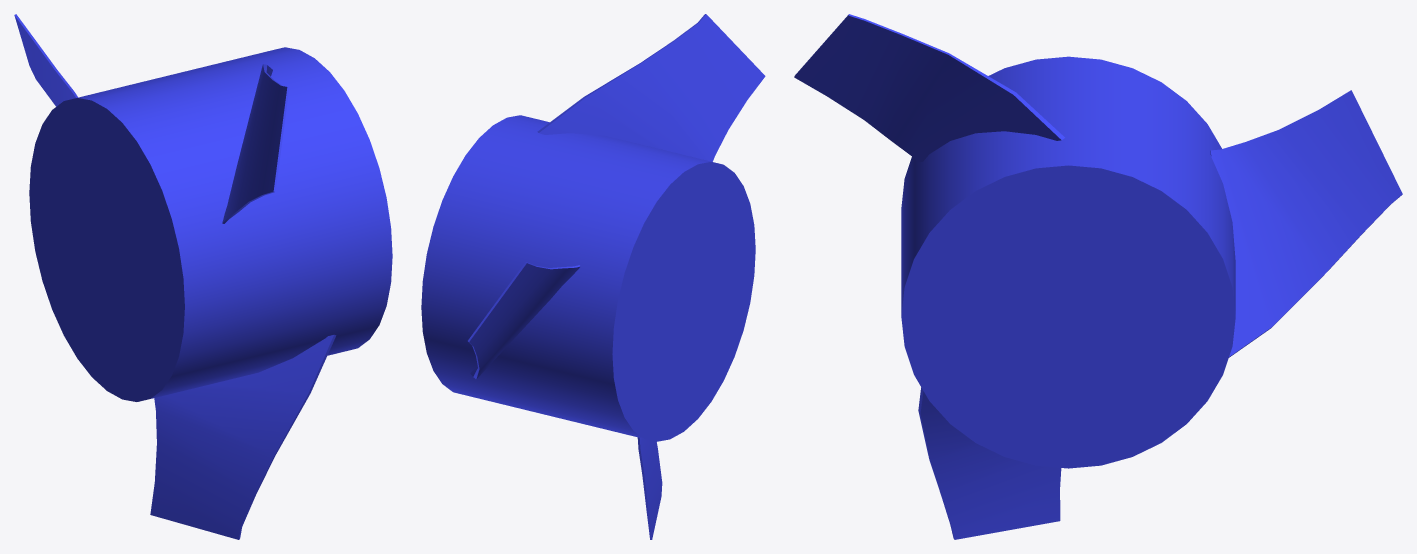
The model's file is t200_prop_cw.visual.glb.
3 renders of one model, left to right at view 1: azimuth 30°, elevation 25°; view 2: azimuth 150°, elevation 25°; view 3: azimuth 270°, elevation 25°, orthographic. The views are drawn at different scales.
Parts seen in each view (by area): view 1: t200_prop_cw.visual.001; view 2: t200_prop_cw.visual.001; view 3: t200_prop_cw.visual.001.
Boxes of the visible parts, left/top/right/bottom form: t200_prop_cw.visual.001: left=14, top=14, right=392, bottom=539; t200_prop_cw.visual.001: left=421, top=14, right=765, bottom=539; t200_prop_cw.visual.001: left=794, top=14, right=1402, bottom=539.
Size of the model in its own units: 0.0309 by 0.0697 by 0.073.
Materials: 1 (1 with a texture image).
